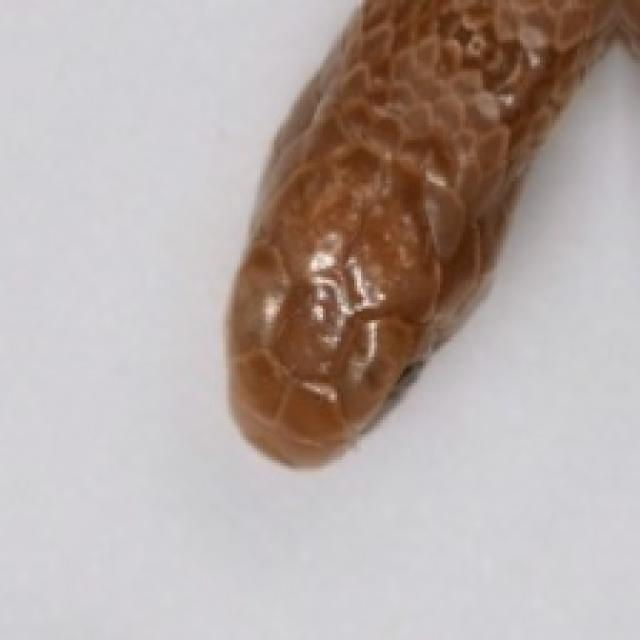philippine cobra: (229, 0, 637, 463)
